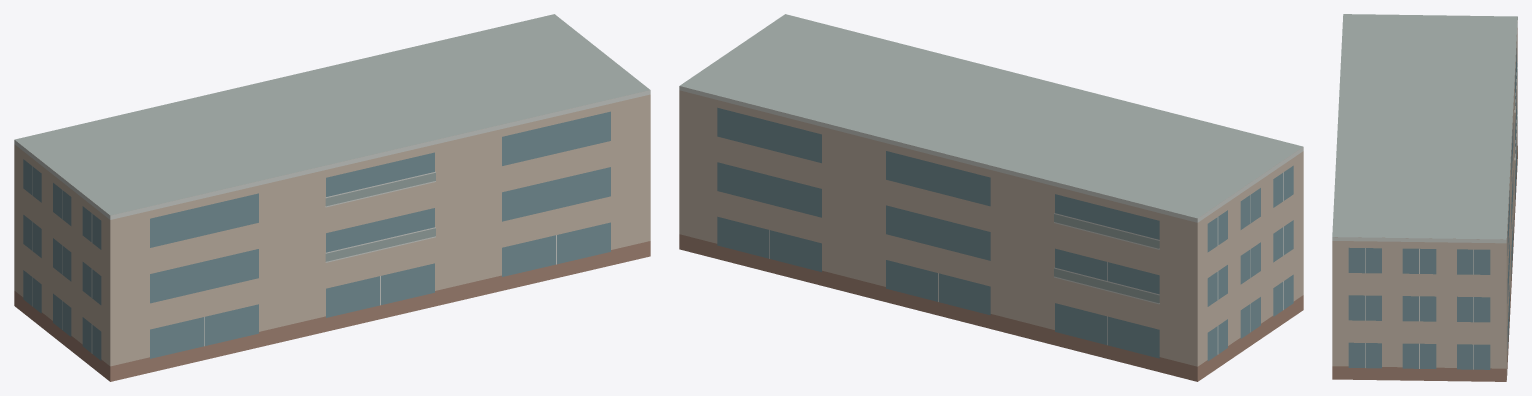
Rendered from survey-upis-32748881.glb.
The picture shows the model from 3 angles, left to right: view 1: azimuth 30°, elevation 25°; view 2: azimuth 150°, elevation 25°; view 3: azimuth 270°, elevation 25°; orthographic projection. The views are drawn at different scales.
Visible parts, largest first — view 1: survey-upis-32748881.tmp; view 2: survey-upis-32748881.tmp; view 3: survey-upis-32748881.tmp.
Part boxes in pixels (x1,y1,x2,y2): survey-upis-32748881.tmp: (14,14,650,381); survey-upis-32748881.tmp: (679,14,1303,381); survey-upis-32748881.tmp: (1332,14,1517,381).
Size of the model in its own units: 31.08 by 9.15 by 10.81.
